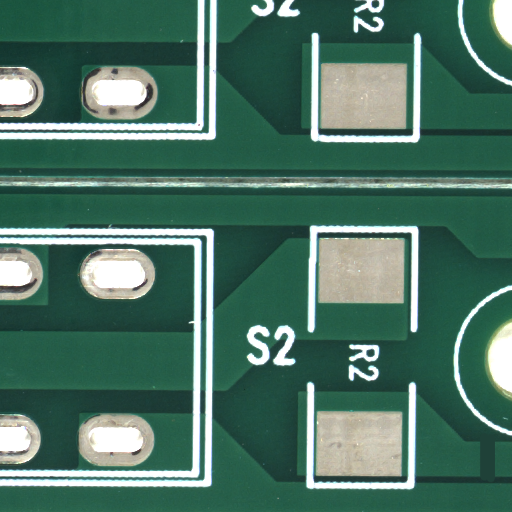Open_circuit: (488, 460, 509, 506)
